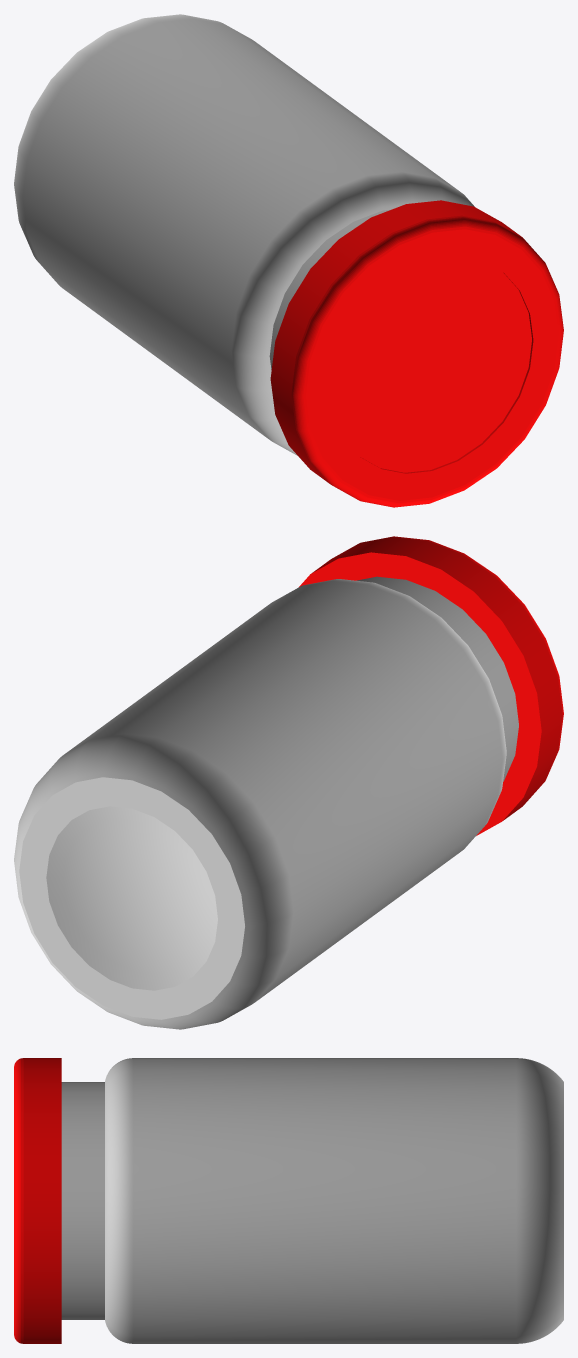
File: model_align.obj
3 renders of one model, top to bottom at view 1: azimuth 30°, elevation 25°; view 2: azimuth 150°, elevation 25°; view 3: azimuth 270°, elevation 25°, orthographic. The views are drawn at different scales.
Parts seen in each view (by area): view 1: mesh16_mesh16-geometry, mesh1_mesh1-geometry; view 2: mesh16_mesh16-geometry, mesh1_mesh1-geometry; view 3: mesh16_mesh16-geometry, mesh1_mesh1-geometry.
Boxes of the visible parts, left/top/right/bottom form: mesh16_mesh16-geometry: left=14, top=14, right=474, bottom=455; mesh1_mesh1-geometry: left=270, top=200, right=563, bottom=507; mesh16_mesh16-geometry: left=14, top=576, right=518, bottom=1029; mesh1_mesh1-geometry: left=299, top=536, right=563, bottom=835; mesh16_mesh16-geometry: left=61, top=1058, right=563, bottom=1343; mesh1_mesh1-geometry: left=14, top=1058, right=61, bottom=1343.
Bounding box in the file's own units: 0.1065 × 0.1065 × 0.2041.
